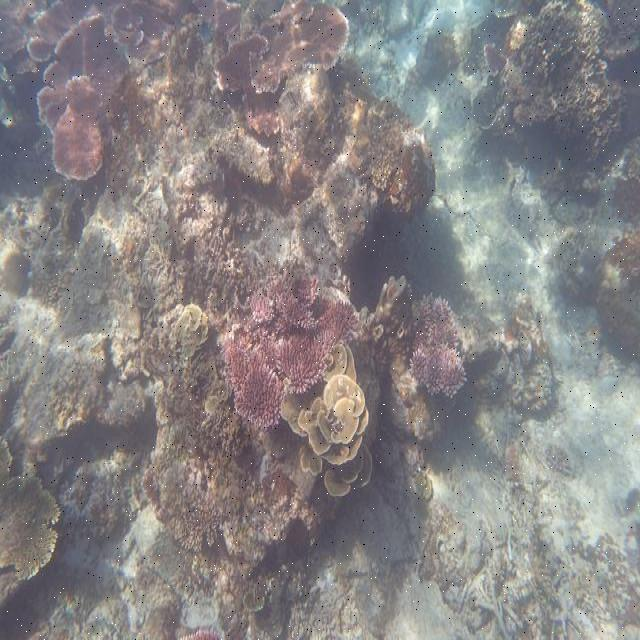reefs: (27, 0, 192, 178), (226, 265, 358, 430), (197, 1, 349, 134), (285, 345, 372, 498), (0, 438, 63, 582), (408, 291, 464, 397)
